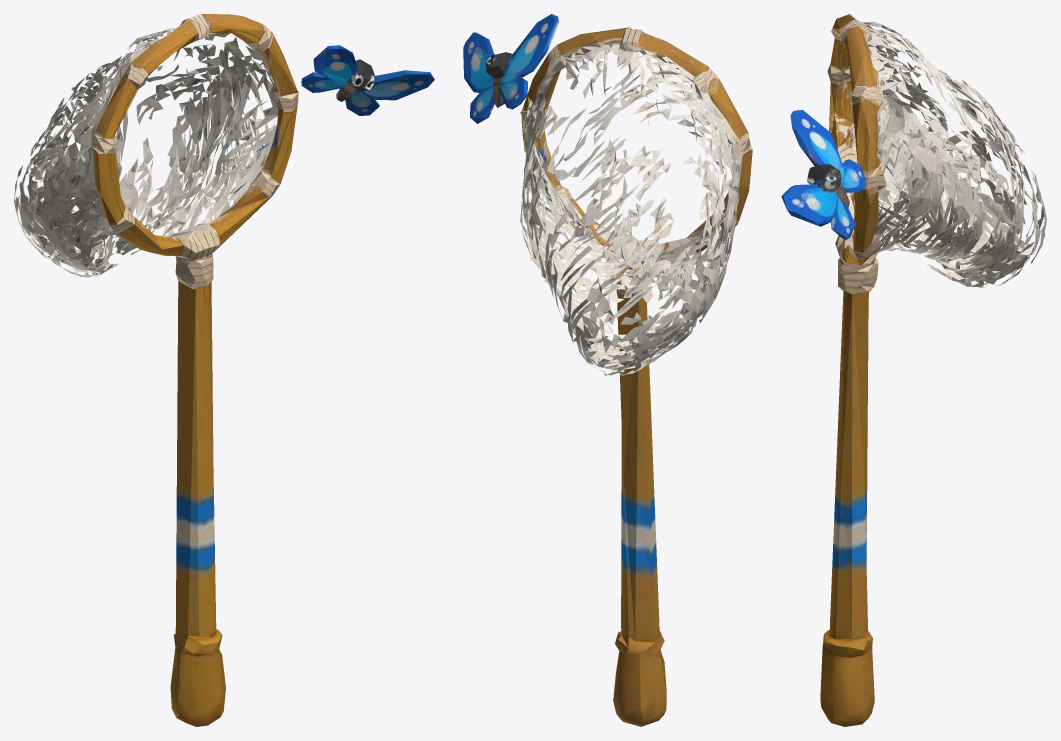
The model's file is butterfly_net.glb.
3 views of the same model, side by side, from view 1: azimuth 30°, elevation 25°; view 2: azimuth 150°, elevation 25°; view 3: azimuth 270°, elevation 25° (orthographic).
Parts seen in each view (by area): view 1: Mesh_0; view 2: Mesh_0; view 3: Mesh_0.
Boxes of the visible parts, left/top/right/bottom form: Mesh_0: left=14, top=14, right=434, bottom=726; Mesh_0: left=463, top=14, right=752, bottom=726; Mesh_0: left=781, top=14, right=1046, bottom=726.
Size of the model in its own units: 0.4971 by 1 by 0.3438.
Materials: 1 (1 with a texture image).
